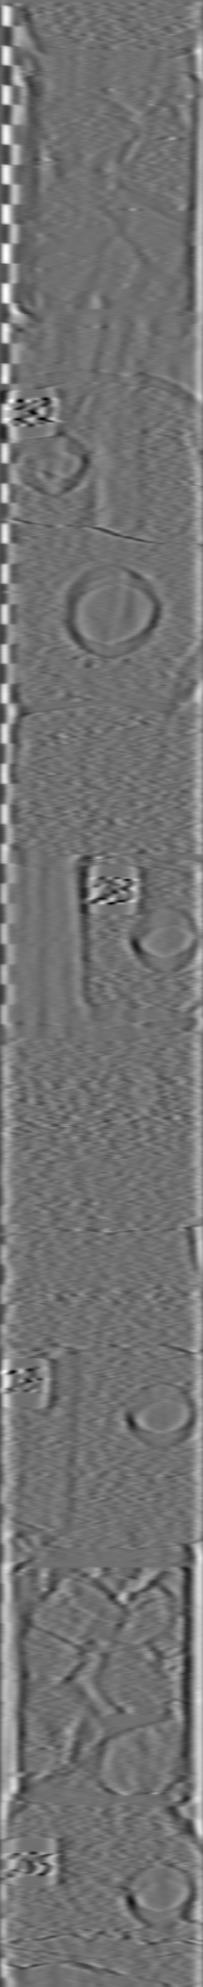hplug: (118, 1376, 203, 1452), (122, 1859, 203, 1931), (124, 902, 203, 976), (11, 430, 88, 498)
scal: (57, 558, 161, 665)
vplug: (11, 1353, 85, 1538), (14, 841, 91, 1004), (89, 387, 155, 535)
